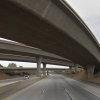Bridge: (17, 2, 96, 70)
